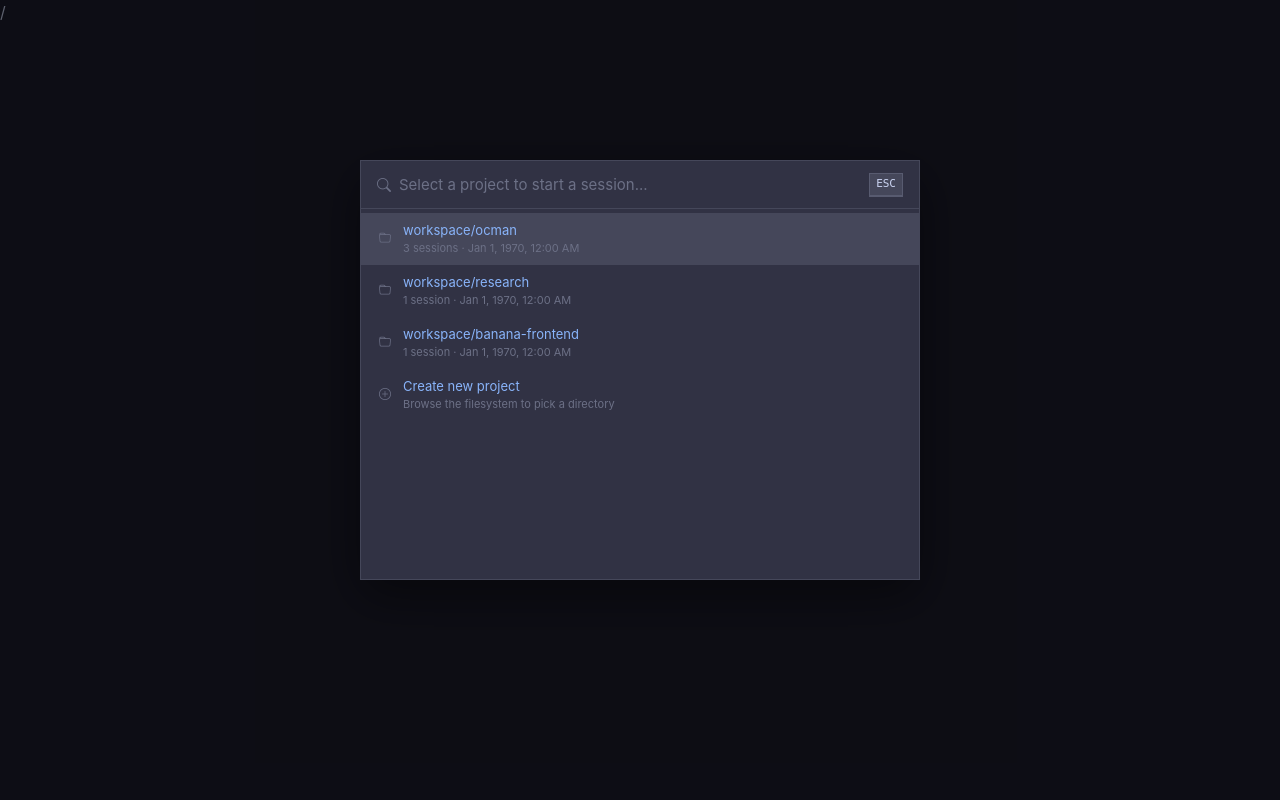
Test: CommandPalette project mode › switches to the filesystem browser when "Create new project" is selected
The image size is (1280, 800).
Step 1. Click the text "Create new project" → (461, 386), box [403,378,520,394]
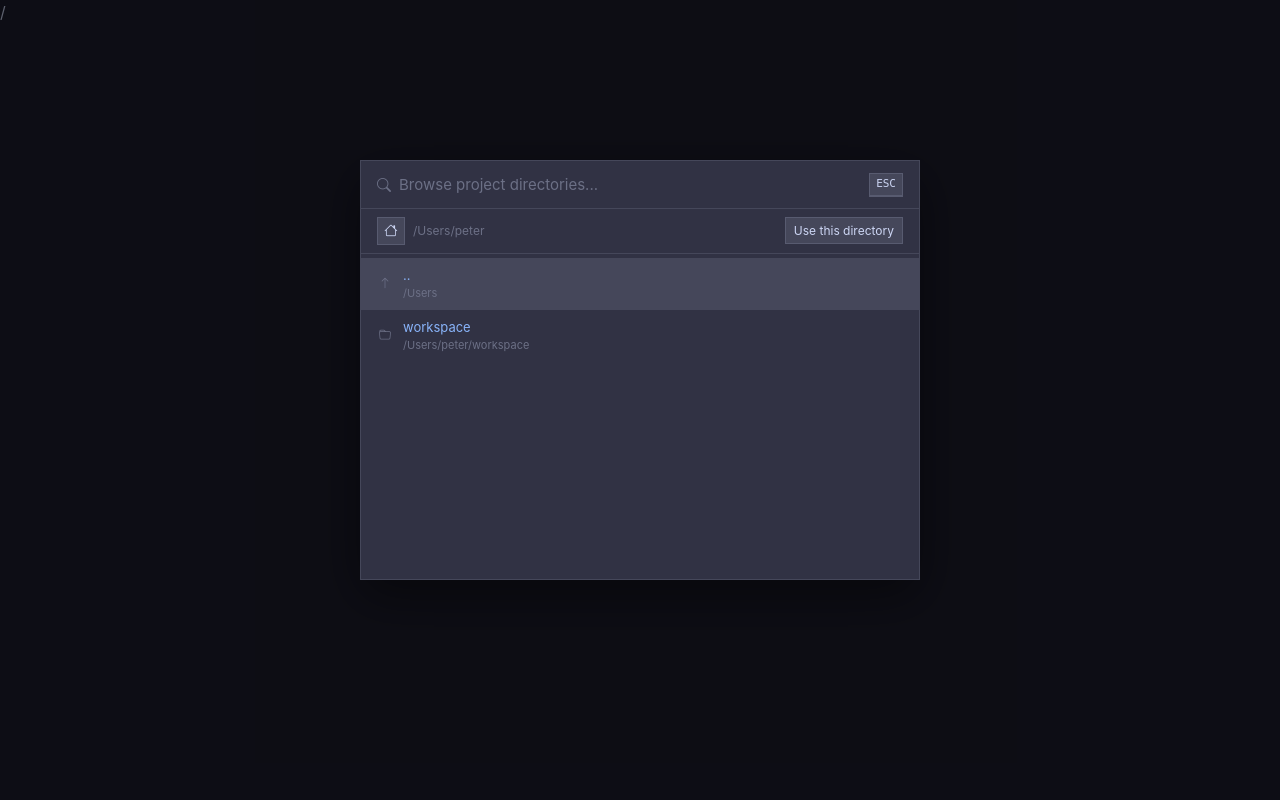
Result: the dropdown with placeholder "Browse project directories..." is shown at [399,175,861,194]
